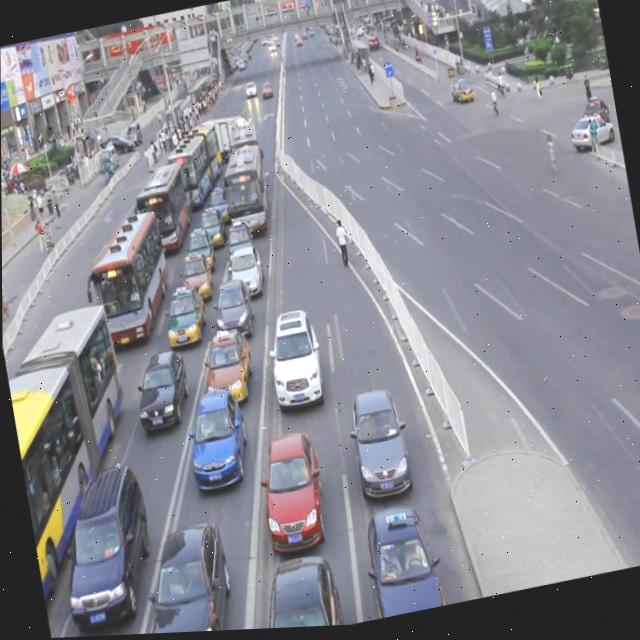bus: (198, 112, 256, 165)
car: (49, 460, 162, 631), (133, 517, 238, 635), (358, 508, 446, 624), (252, 429, 331, 557), (343, 390, 414, 503), (182, 389, 253, 494), (251, 552, 343, 631), (262, 308, 327, 415), (130, 349, 194, 435), (198, 325, 258, 411), (159, 284, 209, 348), (209, 280, 256, 341), (225, 246, 266, 301), (176, 251, 214, 305), (566, 117, 616, 156), (182, 227, 218, 277), (222, 220, 257, 268), (196, 207, 226, 250), (204, 188, 231, 225), (448, 79, 475, 111)
van: (2, 304, 157, 617), (76, 211, 178, 350), (127, 161, 198, 261), (161, 124, 229, 212), (216, 143, 276, 240), (225, 120, 266, 178)
